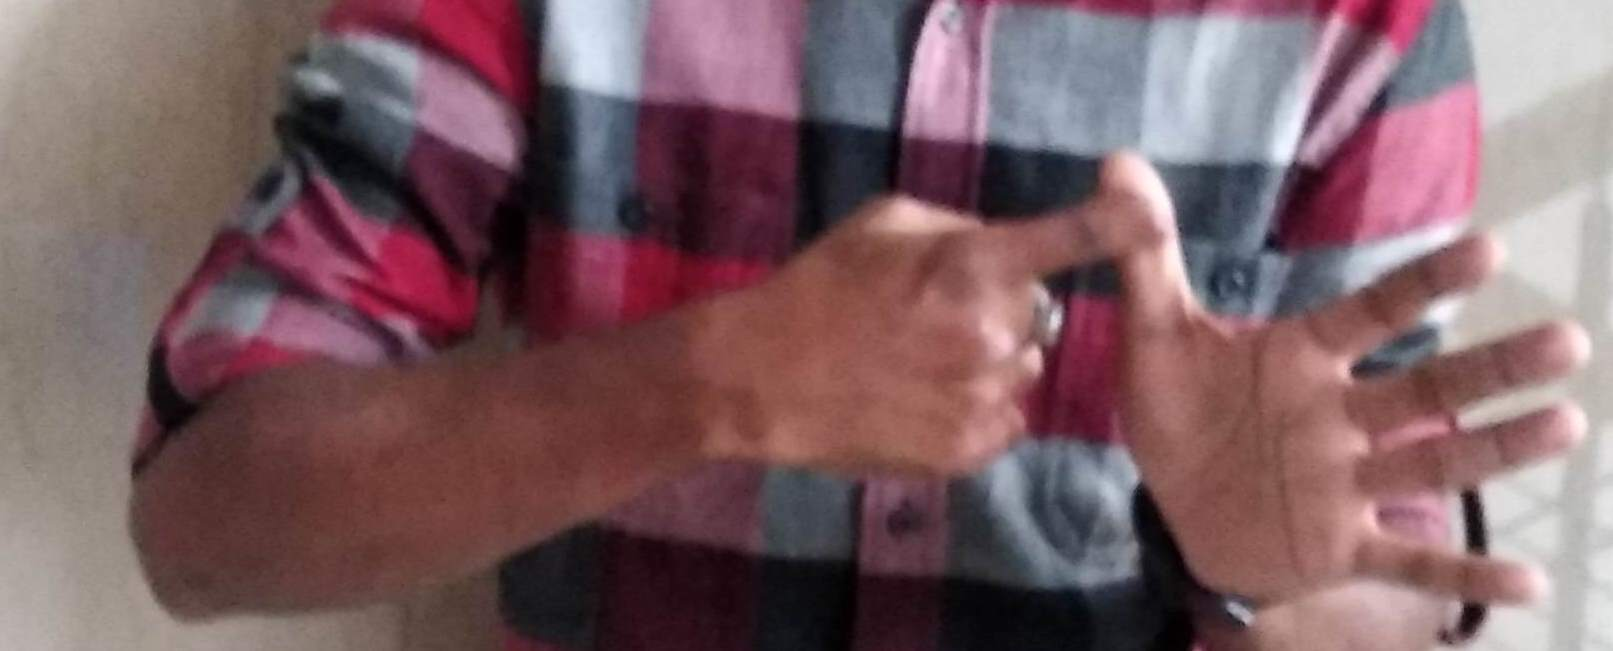a: (800, 164, 1549, 622)
